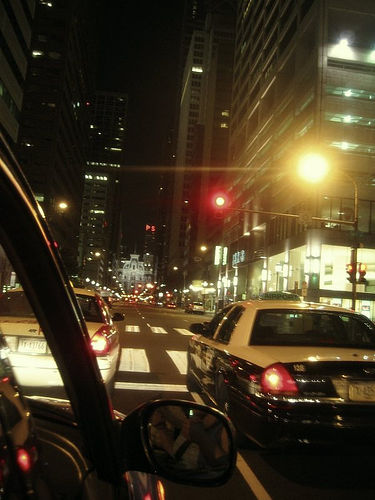car: (182, 288, 374, 464)
